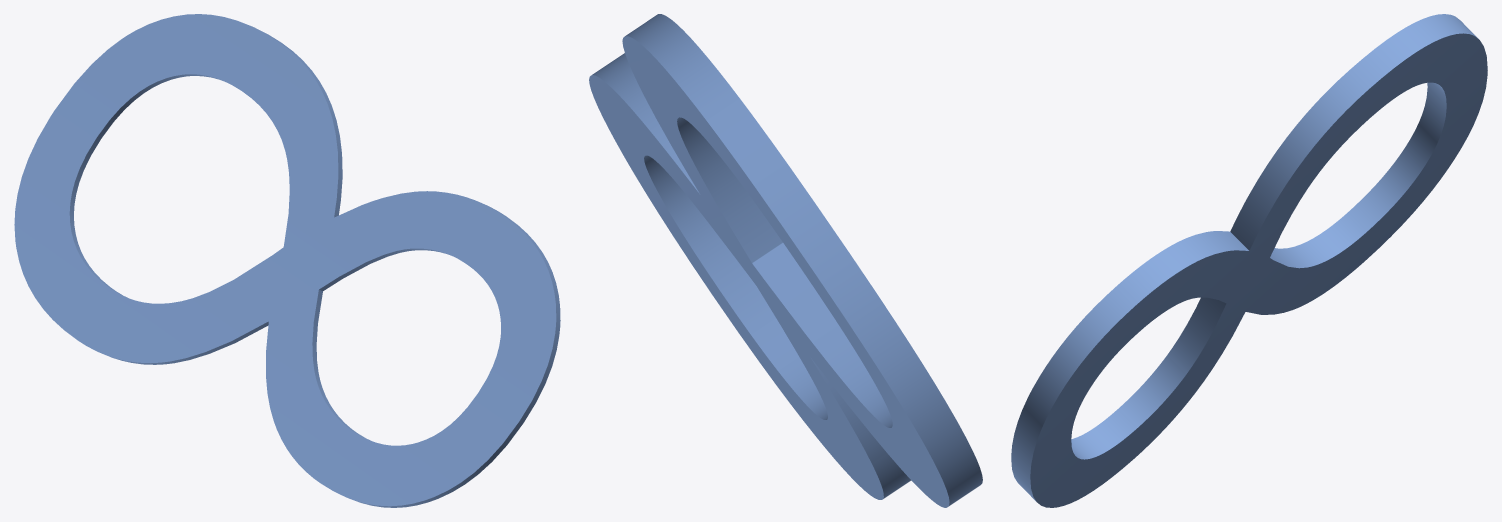
The model's file is New_Number_8.gltf.
3 views of the same model, side by side, from view 1: azimuth 30°, elevation 25°; view 2: azimuth 150°, elevation 25°; view 3: azimuth 270°, elevation 25° (orthographic). The views are drawn at different scales.
Visible parts, largest first — view 1: Part 197; view 2: Part 197; view 3: Part 197.
Part boxes in pixels (left/top/right/bottom): Part 197: left=14, top=14, right=560, bottom=507; Part 197: left=589, top=14, right=982, bottom=507; Part 197: left=1011, top=14, right=1487, bottom=507.
Size of the model in its own units: 0.00445 by 0.0044 by 0.00421.
